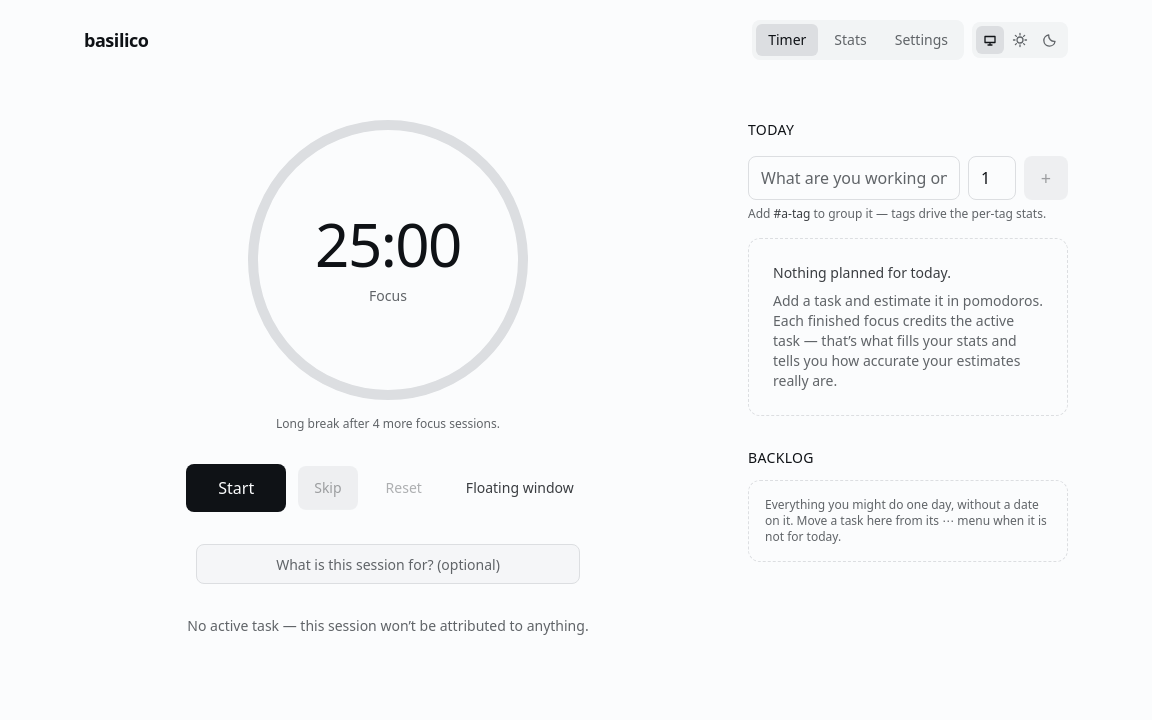
tasks › shows the description on the row once it has one
Type "Ship it" into the field named "Task title".
click(854, 178); type("Ship it")  # box [748, 156, 960, 200]
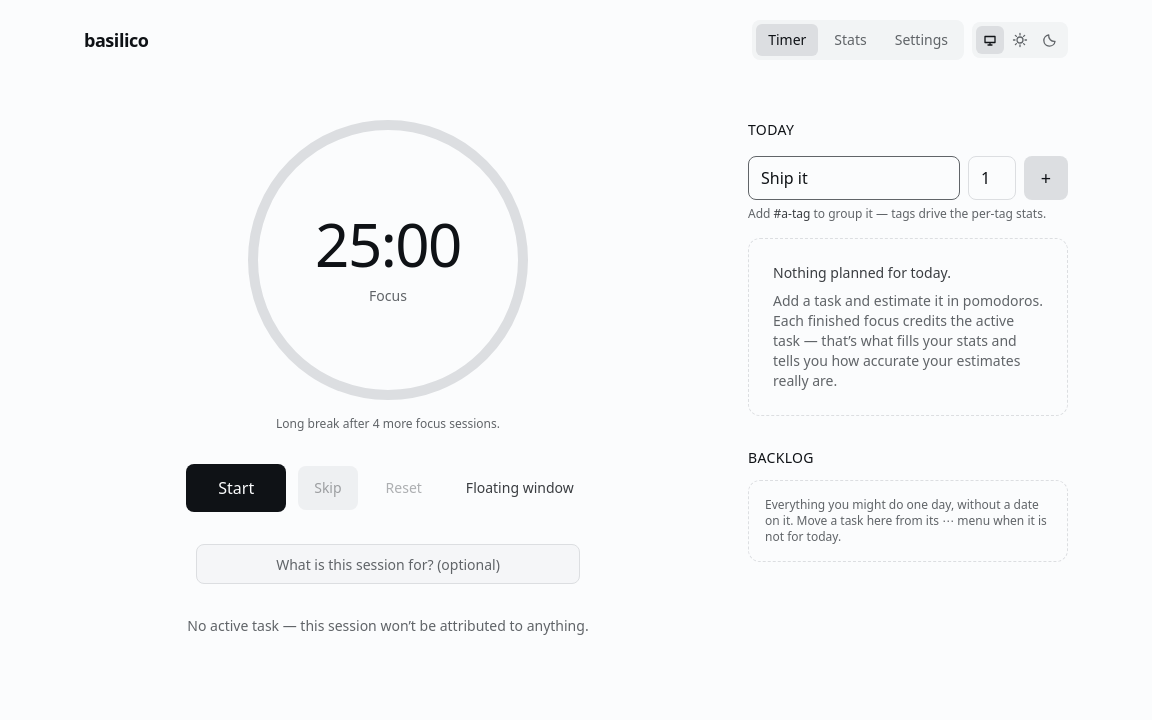
Click the button named "Add".
click(1046, 178)  # box [1024, 156, 1068, 200]
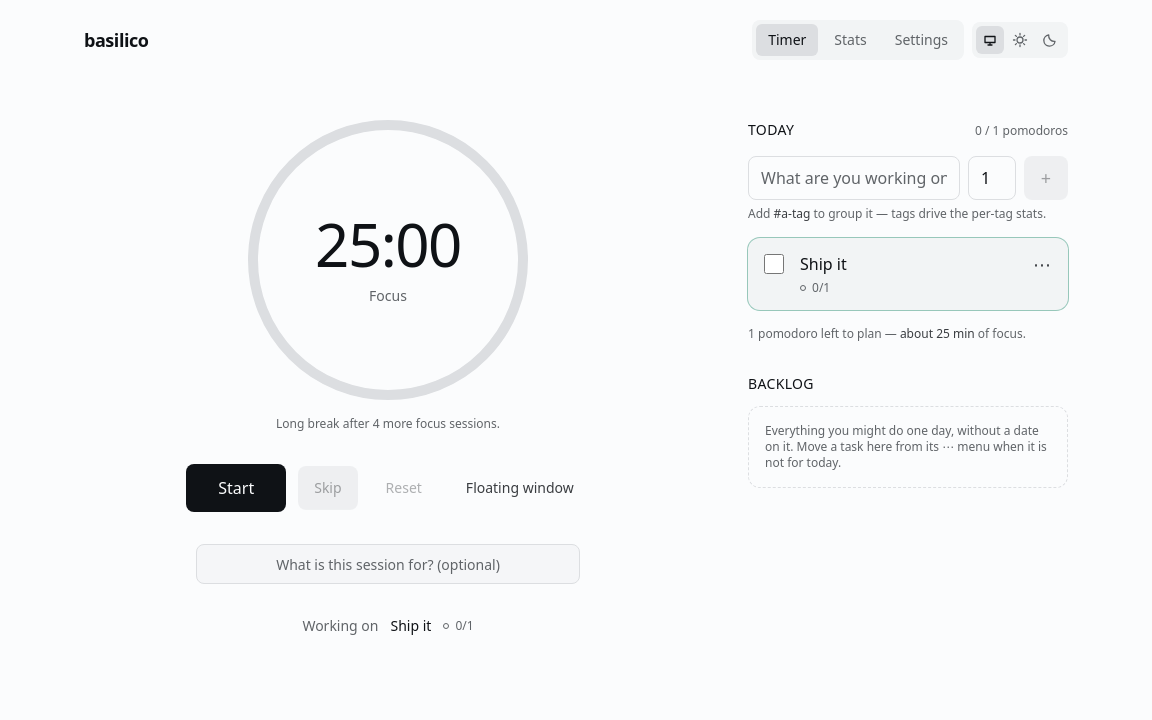
Click the button named "Actions for Ship it".
click(1042, 264)  # box [1020, 242, 1064, 286]
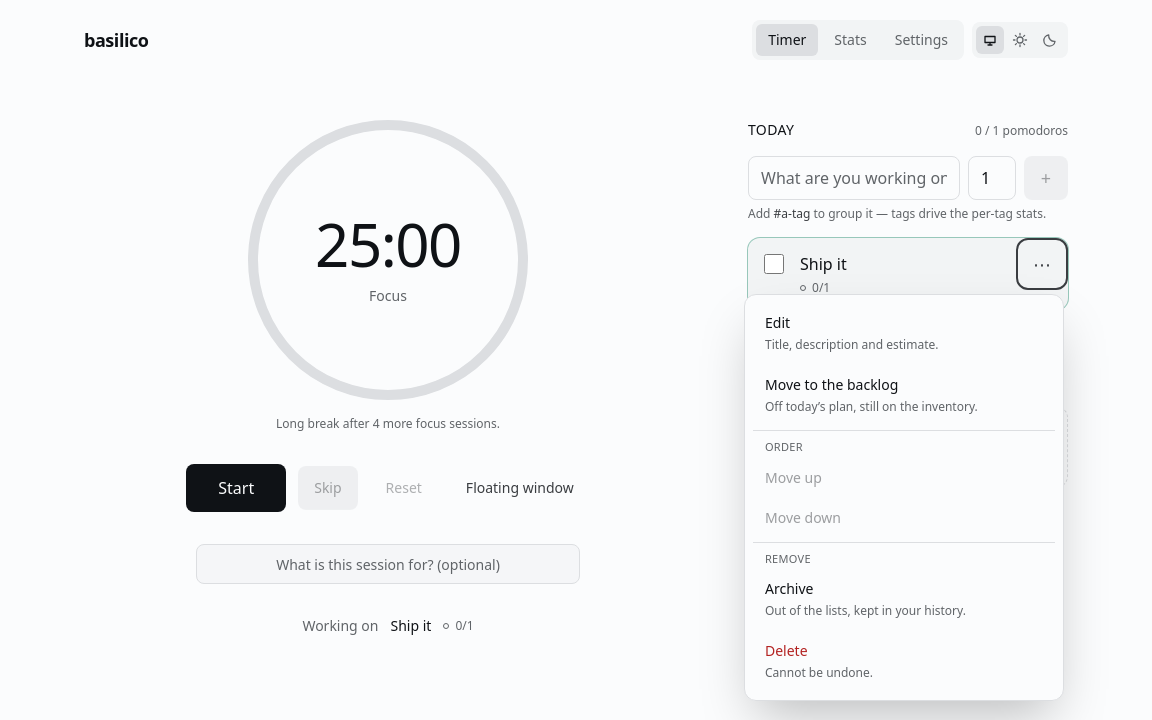
Click the button "Edit Title, description and estimate.".
click(904, 334)  # box [753, 303, 1055, 364]
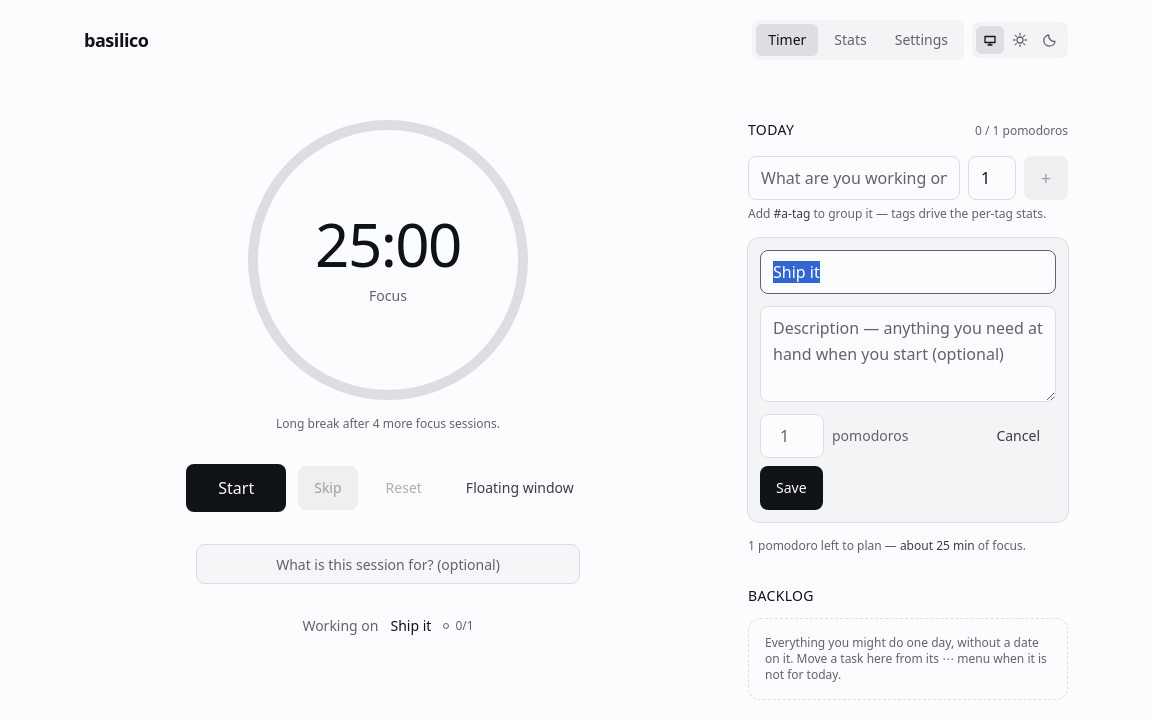
Type "Behind the flag first" into the text box named "Description of Ship it".
click(908, 354); type("Behind the flag first")  # box [760, 306, 1056, 402]
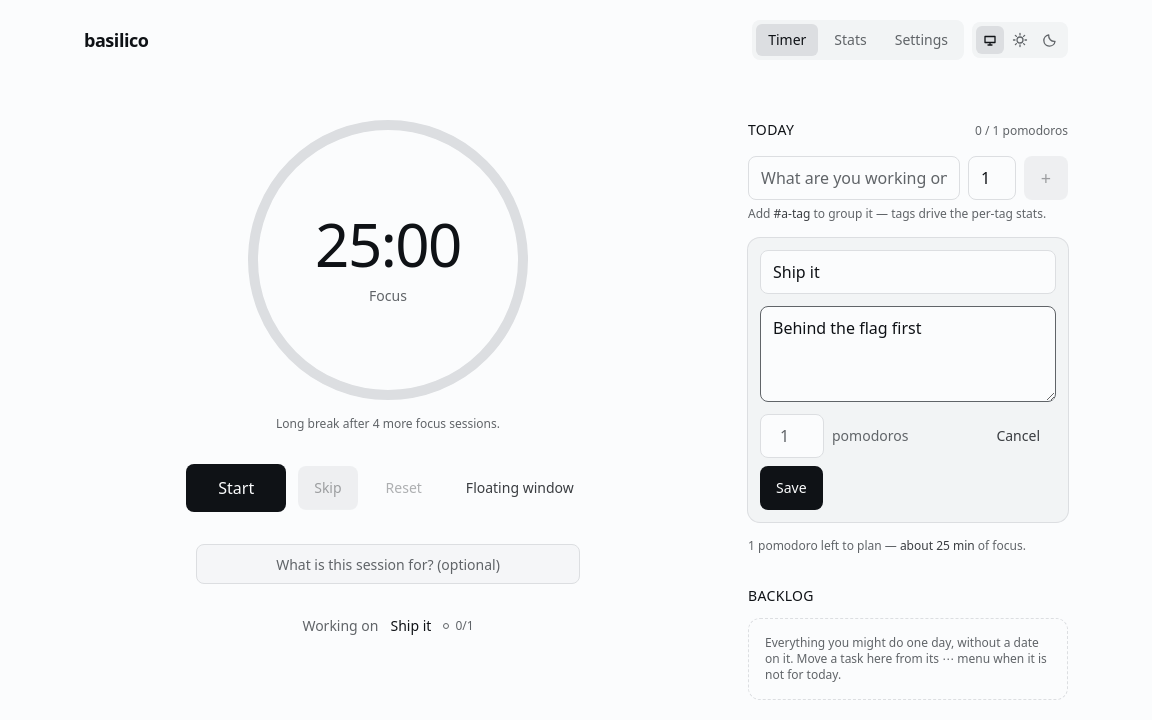
Click the button "Save".
click(791, 488)  # box [760, 466, 823, 510]
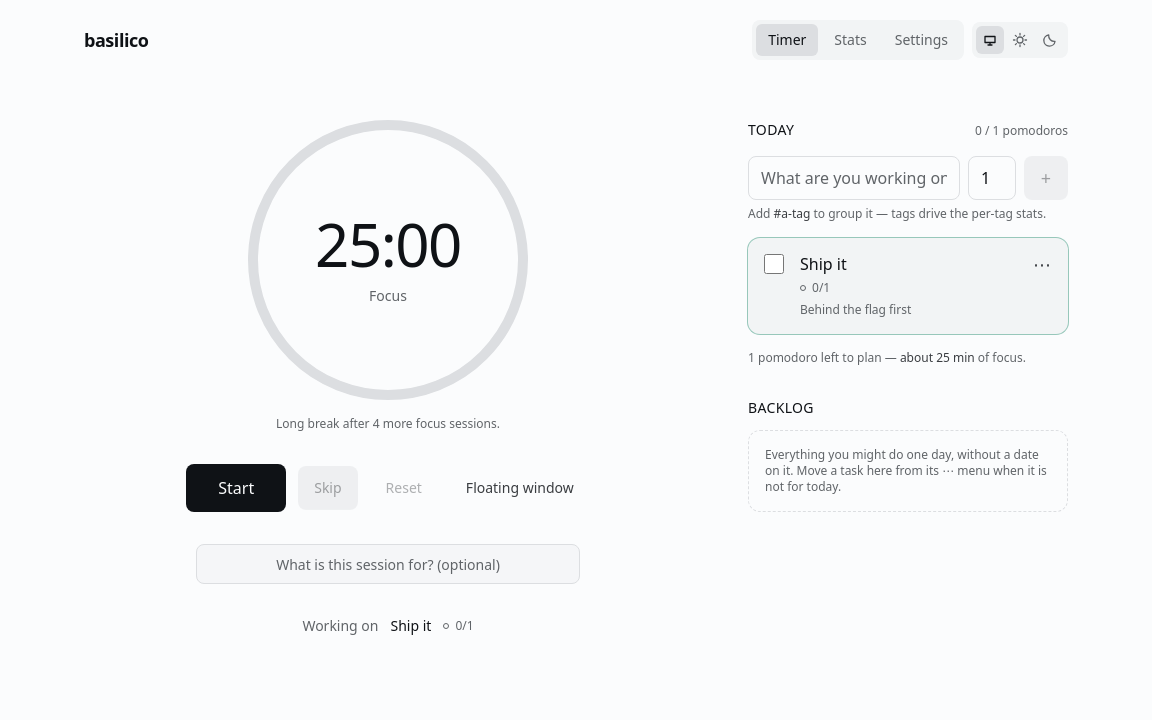
Expected: the text "Behind the flag first" is shown, [800, 301, 911, 318]
